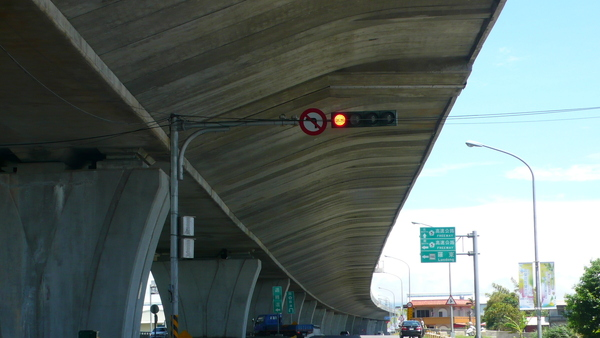No_left_turn: (299, 108, 327, 135)
